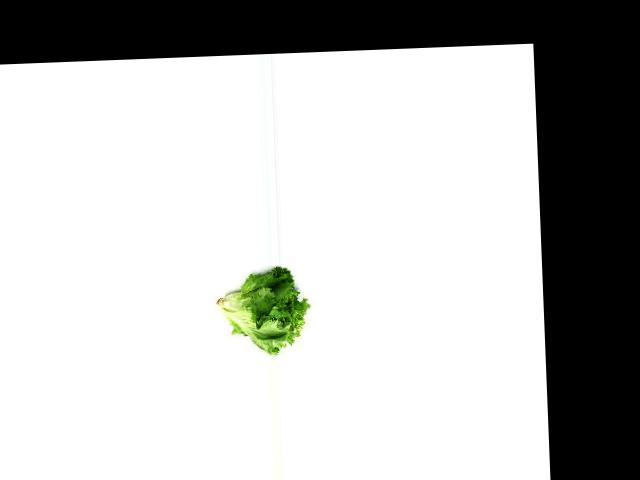lettuce: (214, 264, 309, 359)
